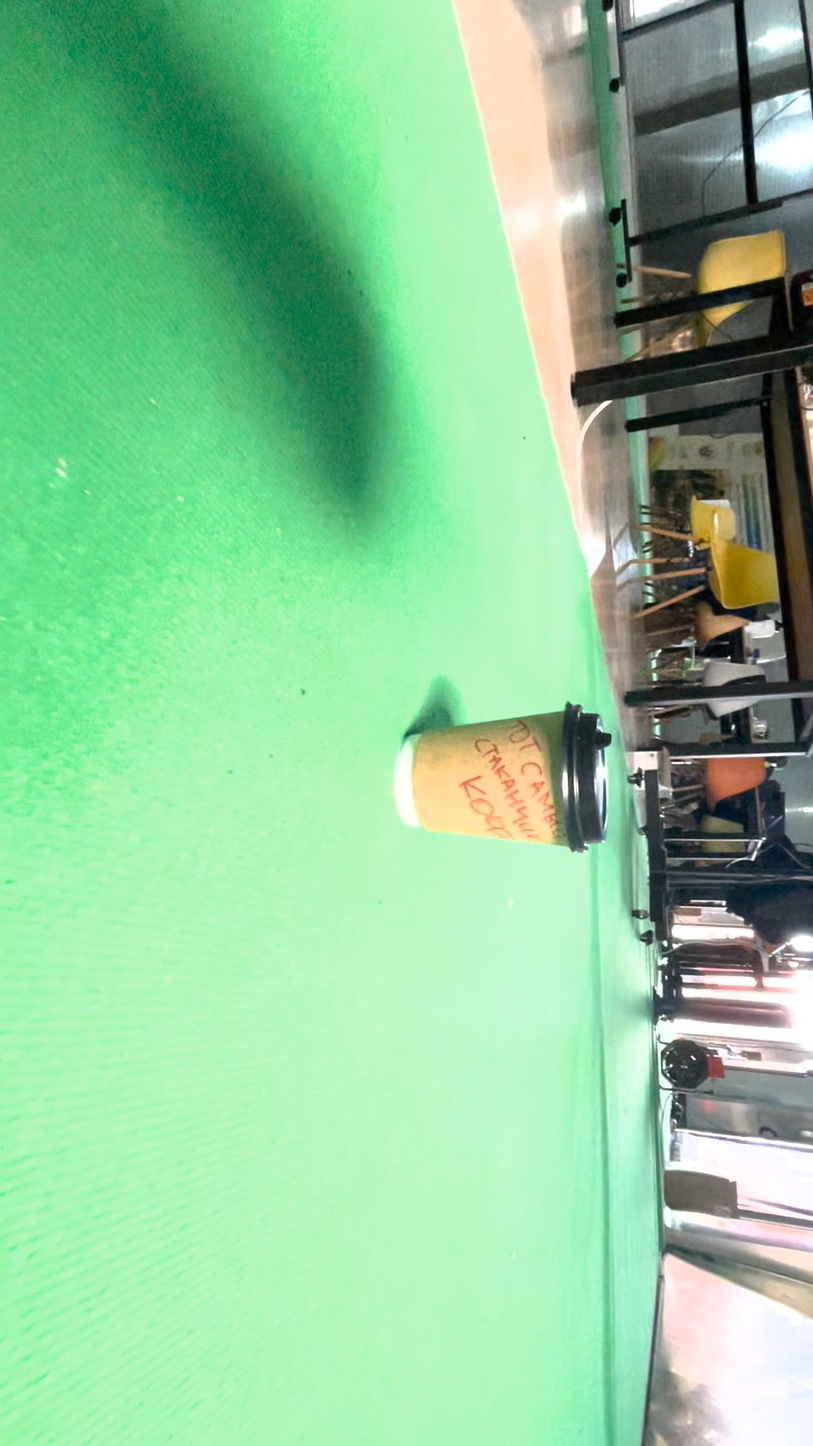cup: (446, 613, 528, 1020)
